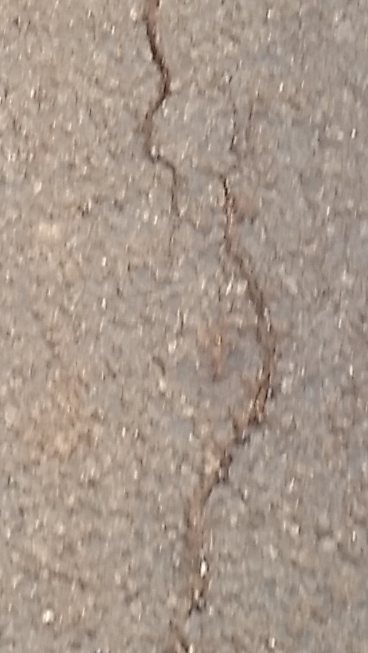A: (119, 1, 287, 643)
